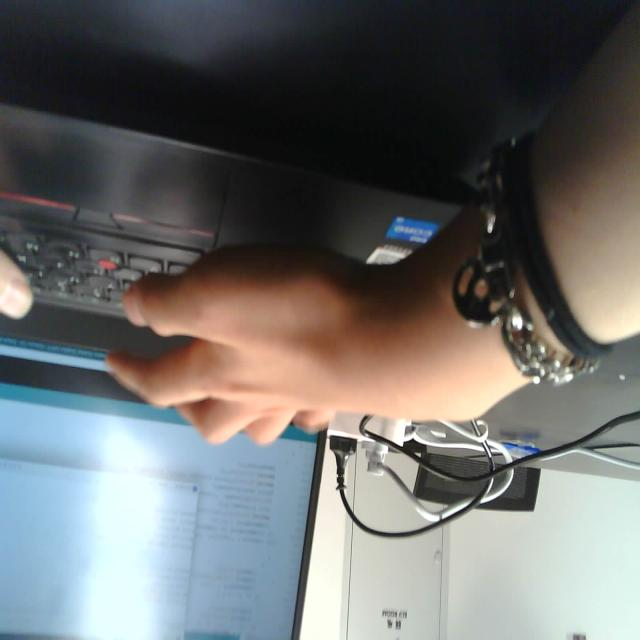keyboard-with-hands: (0, 101, 494, 380)
